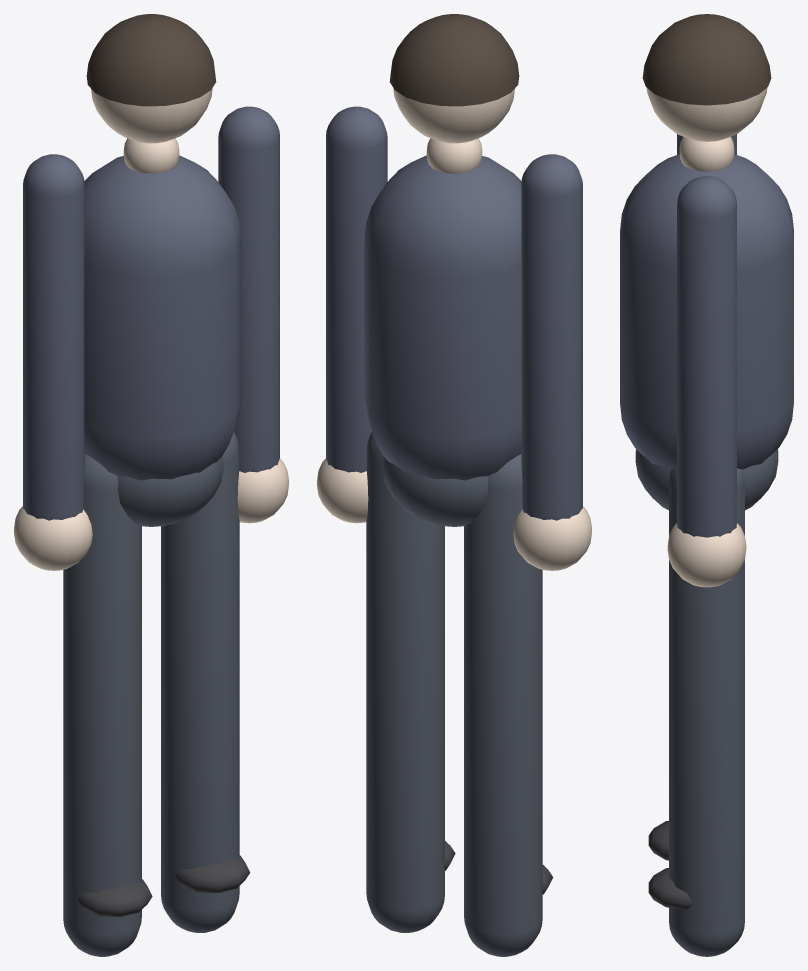
The model's file is male_business_35.glb.
The picture shows the model from 3 angles, left to right: view 1: azimuth 30°, elevation 25°; view 2: azimuth 150°, elevation 25°; view 3: azimuth 270°, elevation 25°; orthographic projection.
Visible parts, largest first — view 1: torso, leg_l, leg_r, arm_l, arm_r, hair, hips, hand_l, head, hand_r, shoe_l, shoe_r (+1 smaller); view 2: torso, leg_l, leg_r, arm_l, arm_r, hair, hips, hand_l, head, hand_r, neck; view 3: torso, leg_r, arm_r, hair, hand_r, head, hips, neck, shoe_r, shoe_l.
Part boxes in pixels (bbox=[...]): torso: bbox=[84, 155, 241, 480]; leg_l: bbox=[63, 454, 141, 956]; leg_r: bbox=[161, 432, 239, 932]; arm_l: bbox=[23, 154, 84, 520]; arm_r: bbox=[218, 106, 279, 472]; hair: bbox=[86, 14, 216, 106]; hips: bbox=[117, 456, 223, 526]; hand_l: bbox=[14, 506, 92, 570]; head: bbox=[91, 88, 212, 143]; hand_r: bbox=[237, 458, 288, 523]; shoe_l: bbox=[77, 879, 152, 916]; shoe_r: bbox=[175, 855, 250, 892]; torso: bbox=[364, 155, 521, 480]; leg_l: bbox=[464, 454, 542, 956]; leg_r: bbox=[366, 432, 444, 932]; arm_l: bbox=[521, 154, 582, 520]; arm_r: bbox=[326, 106, 387, 472]; hair: bbox=[389, 14, 519, 106]; hips: bbox=[382, 456, 488, 526]; hand_l: bbox=[513, 506, 591, 570]; head: bbox=[393, 88, 514, 143]; hand_r: bbox=[317, 458, 368, 523]; neck: bbox=[426, 138, 482, 173]; torso: bbox=[620, 154, 793, 469]; leg_r: bbox=[669, 468, 744, 956]; arm_r: bbox=[677, 176, 736, 537]; hair: bbox=[642, 14, 771, 105]; hand_r: bbox=[667, 523, 746, 587]; head: bbox=[646, 88, 767, 141]; hips: bbox=[635, 449, 778, 510]; neck: bbox=[679, 136, 734, 171]; shoe_r: bbox=[648, 868, 693, 909]; shoe_l: bbox=[648, 820, 668, 860].
Size of the model in its own units: 0.5702 by 1.89 by 0.3276.
